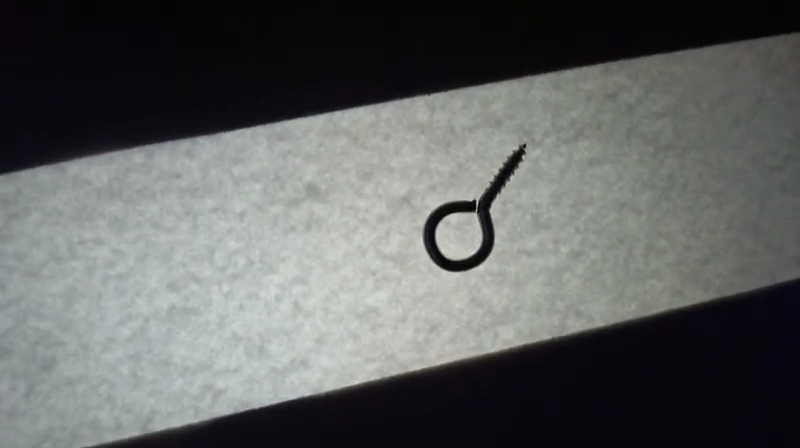O001: (420, 139, 530, 276)
